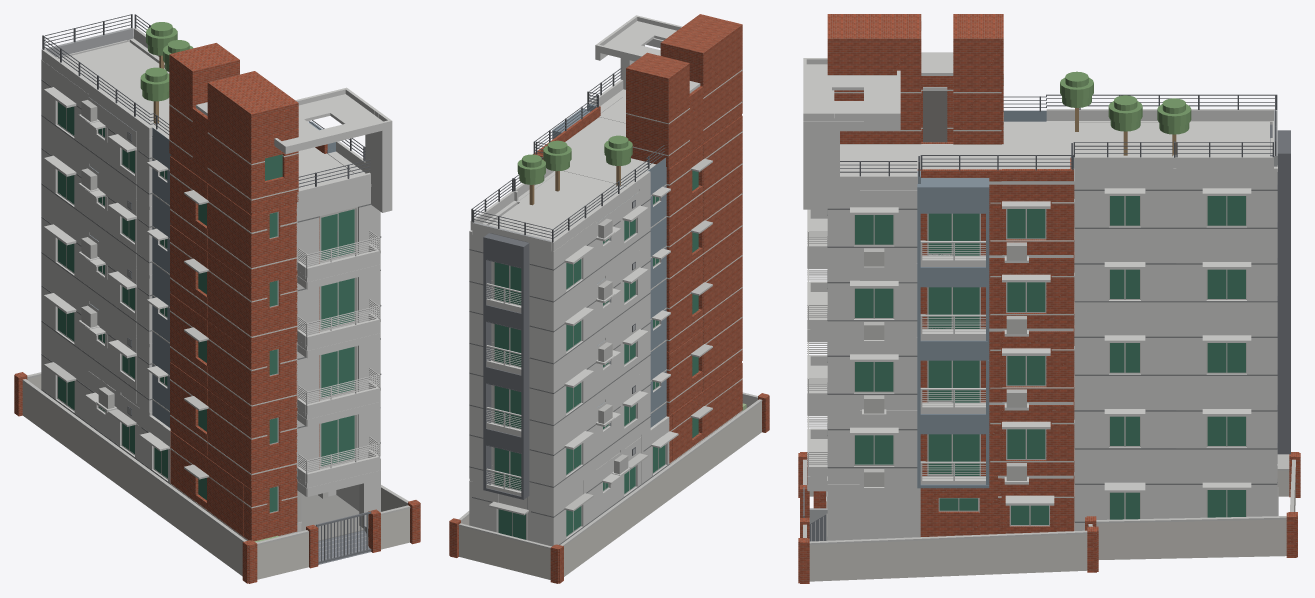
3 views of the same model, side by side, from view 1: azimuth 30°, elevation 25°; view 2: azimuth 150°, elevation 25°; view 3: azimuth 270°, elevation 25° (orthographic). The views are drawn at different scales.
Parts seen in each view (by area): view 1: BOUNDARY#834, pylon_head#496, zone#1941, zone#1914, zone#1932, zone#1923, pylon_head#497, slab#495, crown_support#669, pylon_head#499, zone#1, plinth#788 (+75 smaller); view 2: BOUNDARY#834, pylon_head#496, pylon_head#497, BOUNDARY#830, slab#489, zone#1941, zone#1914, zone#1923, zone#1932, his_balcony_frame/cheek#1440, pylon_head#503, slab#495 (+60 smaller); view 3: BOUNDARY#818, BOUNDARY#826, pylon_head#499, pylon_head#500, GROUND_FLOOR/full_wall#1216, his_balcony_frame/cheek#1441, slab#486, crown_support#669, slab#495, slab#489, slab#482, zone#41 (+118 smaller).
Part boxes in pixels (x1,y1,x2,y2): BOUNDARY#834: (22, 382, 242, 576); pylon_head#496: (207, 79, 264, 213); zone#1941: (207, 184, 269, 281); zone#1914: (207, 390, 269, 487); zone#1932: (207, 253, 269, 350); zone#1923: (207, 321, 269, 418); pylon_head#497: (169, 51, 205, 169); slab#495: (59, 41, 169, 90); crown_support#669: (365, 128, 392, 212); pylon_head#499: (241, 71, 298, 205); zone#1: (207, 457, 243, 536); plinth#788: (301, 495, 363, 541); BOUNDARY#834: (564, 402, 761, 576); pylon_head#496: (691, 21, 742, 141); pylon_head#497: (656, 60, 689, 167); BOUNDARY#830: (459, 526, 550, 579); slab#489: (517, 171, 626, 217); zone#1941: (703, 115, 742, 203); zone#1914: (703, 301, 742, 389); zone#1923: (703, 239, 742, 327); zone#1932: (703, 178, 742, 265); his_balcony_frame/cheek#1440: (521, 242, 529, 499); pylon_head#503: (639, 56, 677, 164); slab#495: (489, 202, 583, 240); BOUNDARY#818: (809, 534, 1087, 581); BOUNDARY#826: (1096, 519, 1286, 559); pylon_head#499: (827, 31, 921, 144); pylon_head#500: (953, 31, 1003, 144); GROUND_FLOOR/full_wall#1216: (827, 484, 920, 540); his_balcony_frame/cheek#1441: (1277, 152, 1290, 454); slab#486: (1002, 121, 1074, 177); crown_support#669: (803, 121, 839, 209); slab#495: (1177, 122, 1269, 156); slab#489: (1074, 122, 1176, 156); slab#482: (921, 144, 1001, 169); zone#41: (1074, 465, 1176, 484).
Size of the model in its own units: 8.06 by 20.24 by 18.89.
Materials: 1 (1 with a texture image).
